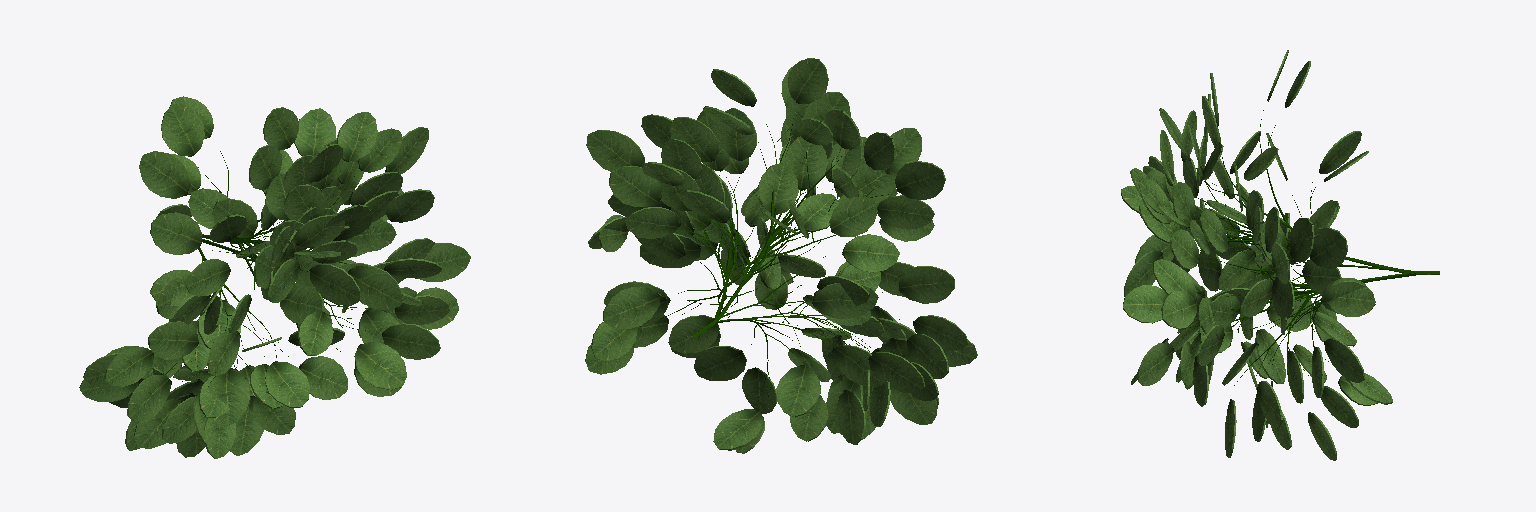
3 renders of one model, left to right at view 1: azimuth 30°, elevation 25°; view 2: azimuth 150°, elevation 25°; view 3: azimuth 270°, elevation 25°, orthographic.
Parts seen in each view (by area): view 1: leaves.017, tree.017; view 2: leaves.017, tree.017; view 3: leaves.017, tree.017.
Boxes of the visible parts, x1=… form: leaves.017: x1=79, y1=96, x2=470, y2=458; tree.017: x1=161, y1=151, x2=373, y2=382; leaves.017: x1=585, y1=58, x2=977, y2=453; tree.017: x1=640, y1=118, x2=899, y2=400; leaves.017: x1=1121, y1=50, x2=1392, y2=460; tree.017: x1=1174, y1=110, x2=1439, y2=399.
Bounding box in the file's own units: 0.3519 × 0.3339 × 0.275.
2 materials, 2 textured.